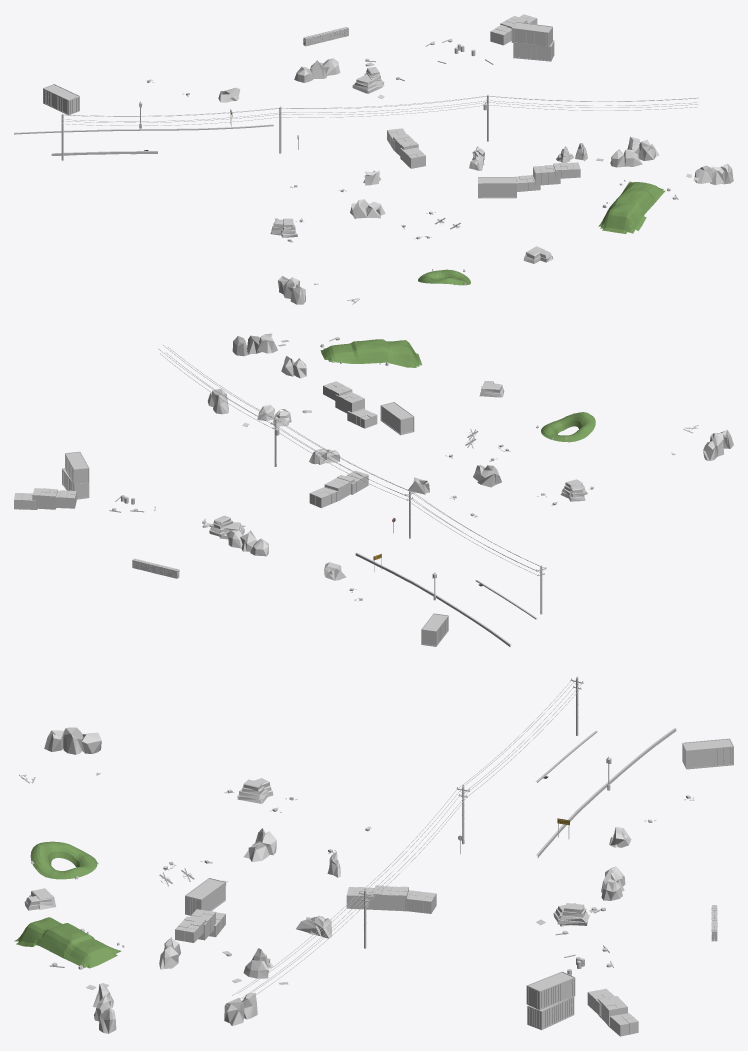
File: outdoor_12.glb
3 views of the same model, one above another, from view 1: azimuth 30°, elevation 25°; view 2: azimuth 150°, elevation 25°; view 3: azimuth 270°, elevation 25° (orthographic). The views are drawn at different scales.
Visible parts, largest first — view 1: gas_station_town; view 2: gas_station_town; view 3: gas_station_town.
Part boxes in pixels (x1=…): gas_station_town: x1=14, y1=14, x2=733, y2=304; gas_station_town: x1=14, y1=333, x2=733, y2=646; gas_station_town: x1=14, y1=676, x2=733, y2=1036.
Size of the model in its own units: 94.11 by 11.72 by 90.83.
Materials: 3 (2 with a texture image).
